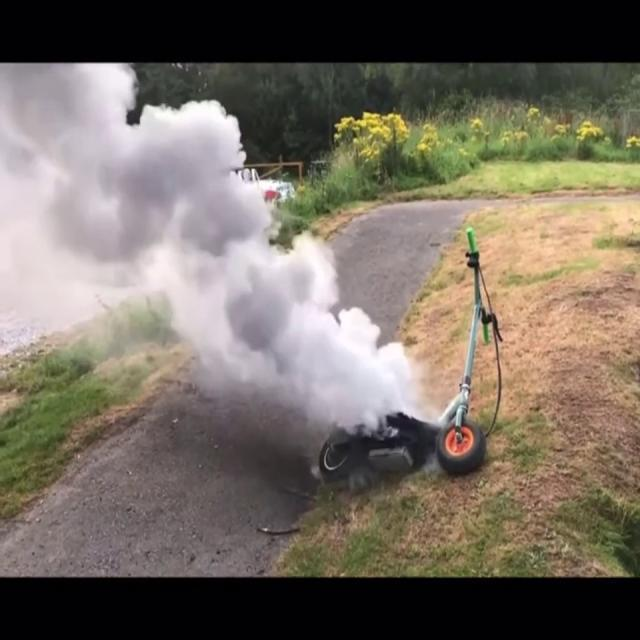Smoke: (106, 105, 412, 425)
